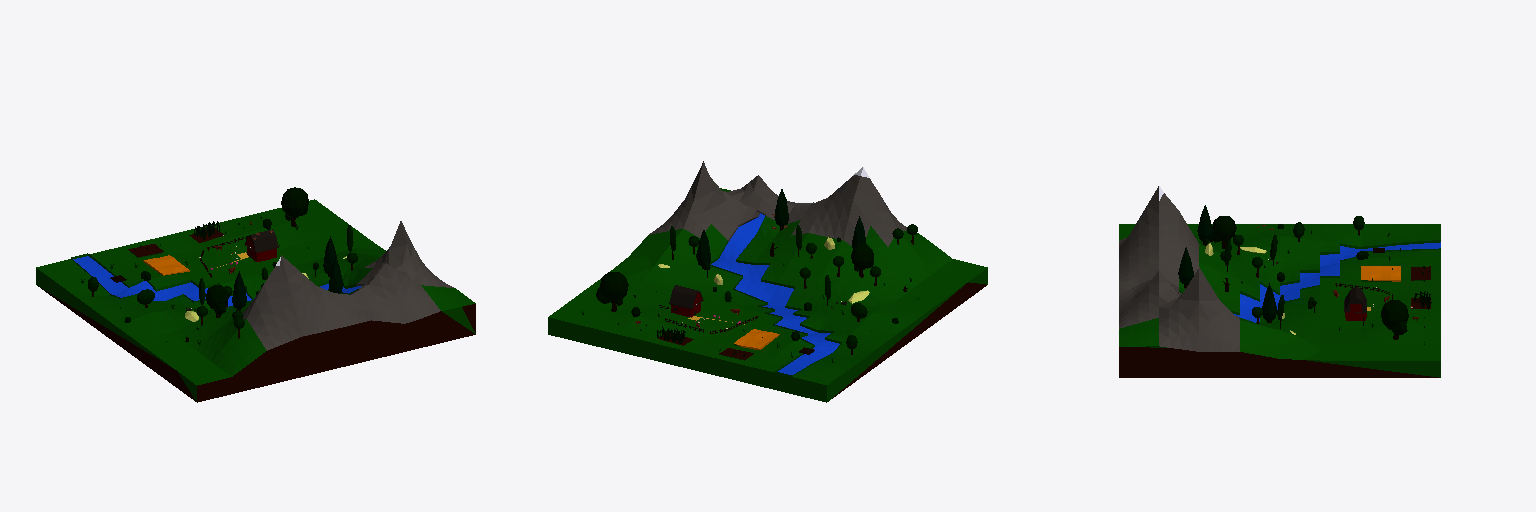
The model's file is farm.obj.
3 renders of one model, left to right at view 1: azimuth 30°, elevation 25°; view 2: azimuth 150°, elevation 25°; view 3: azimuth 270°, elevation 25°, orthographic.
Visible parts, largest first — view 1: Plane, Cube.001_Cube.003, Icosphere.010_Icosphere.015; view 2: Plane, Cube.001_Cube.003, Icosphere.010_Icosphere.015; view 3: Plane, Icosphere.010_Icosphere.015, Cube.001_Cube.003, Icosphere.000_Icosphere.002.
Part boxes in pixels (x1,y1,x2,y2): Plane: (36, 199, 475, 402); Cube.001_Cube.003: (245, 229, 278, 261); Icosphere.010_Icosphere.015: (281, 187, 308, 220); Plane: (548, 161, 987, 402); Cube.001_Cube.003: (669, 285, 703, 317); Icosphere.010_Icosphere.015: (596, 272, 628, 305); Plane: (1119, 186, 1440, 377); Icosphere.010_Icosphere.015: (1381, 300, 1408, 334); Cube.001_Cube.003: (1344, 286, 1366, 320); Icosphere.000_Icosphere.002: (1211, 216, 1236, 243).
Bounding box in the file's own units: 10.67 × 3.92 × 10.67.